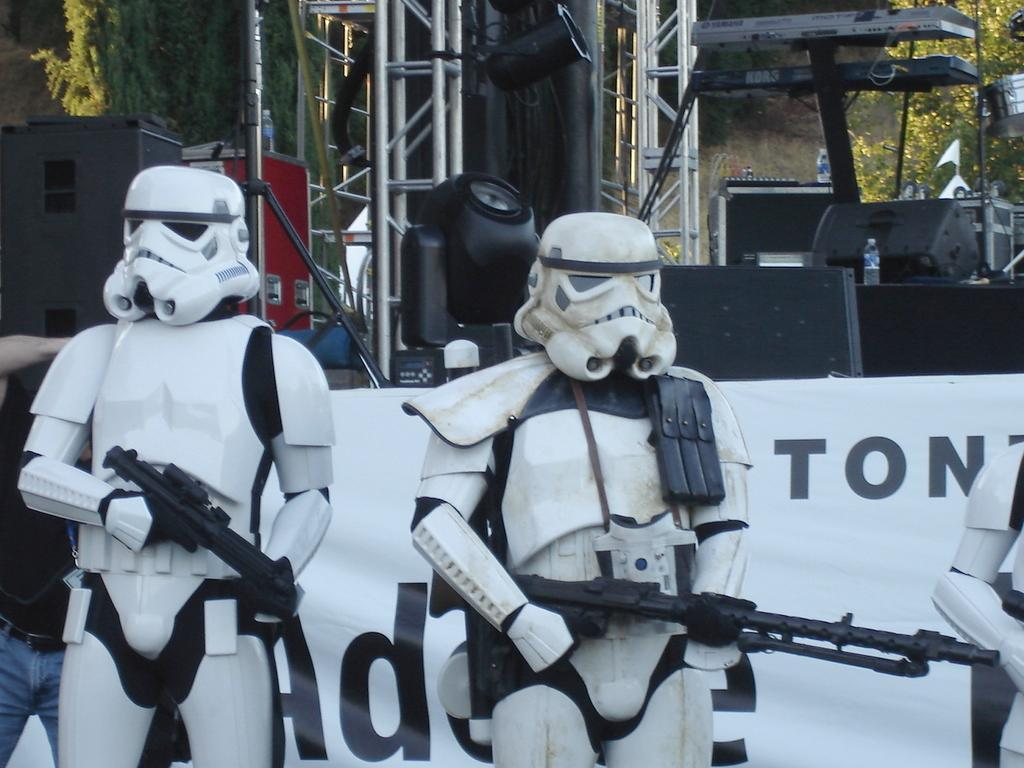gun: (508, 571, 1006, 681), (100, 441, 302, 613)
